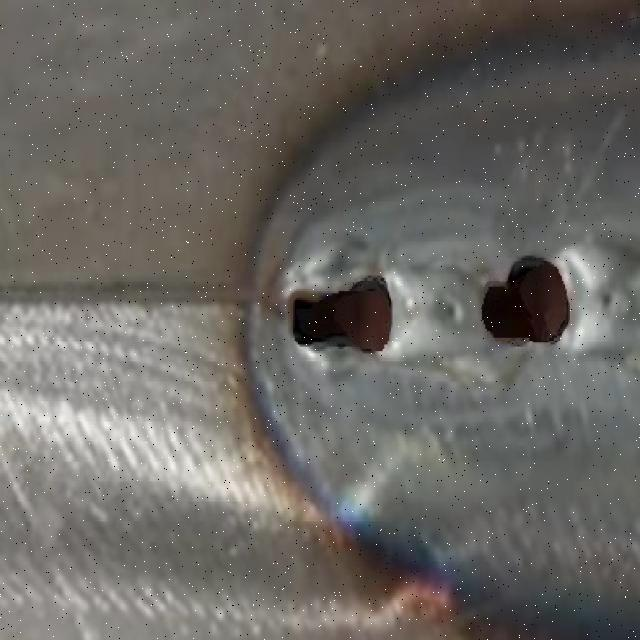Crack: (292, 276, 391, 351), (482, 258, 569, 341)
